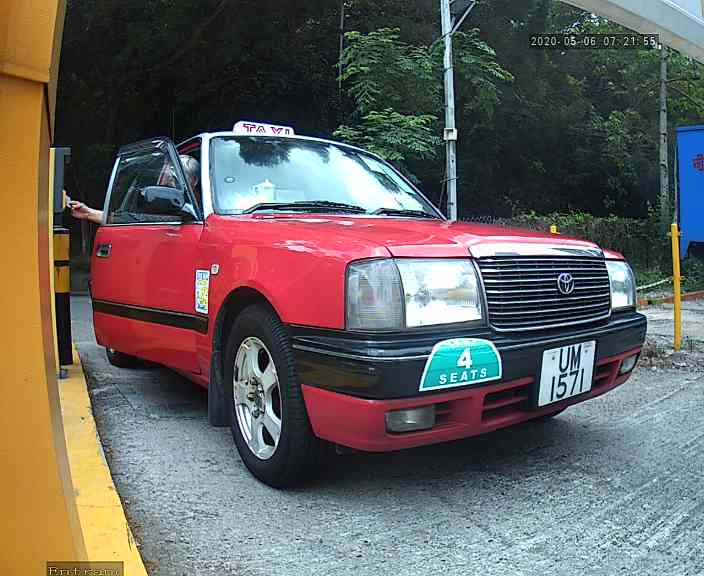taxi: (89, 129, 645, 508)
taxi_mark: (407, 328, 520, 402)
